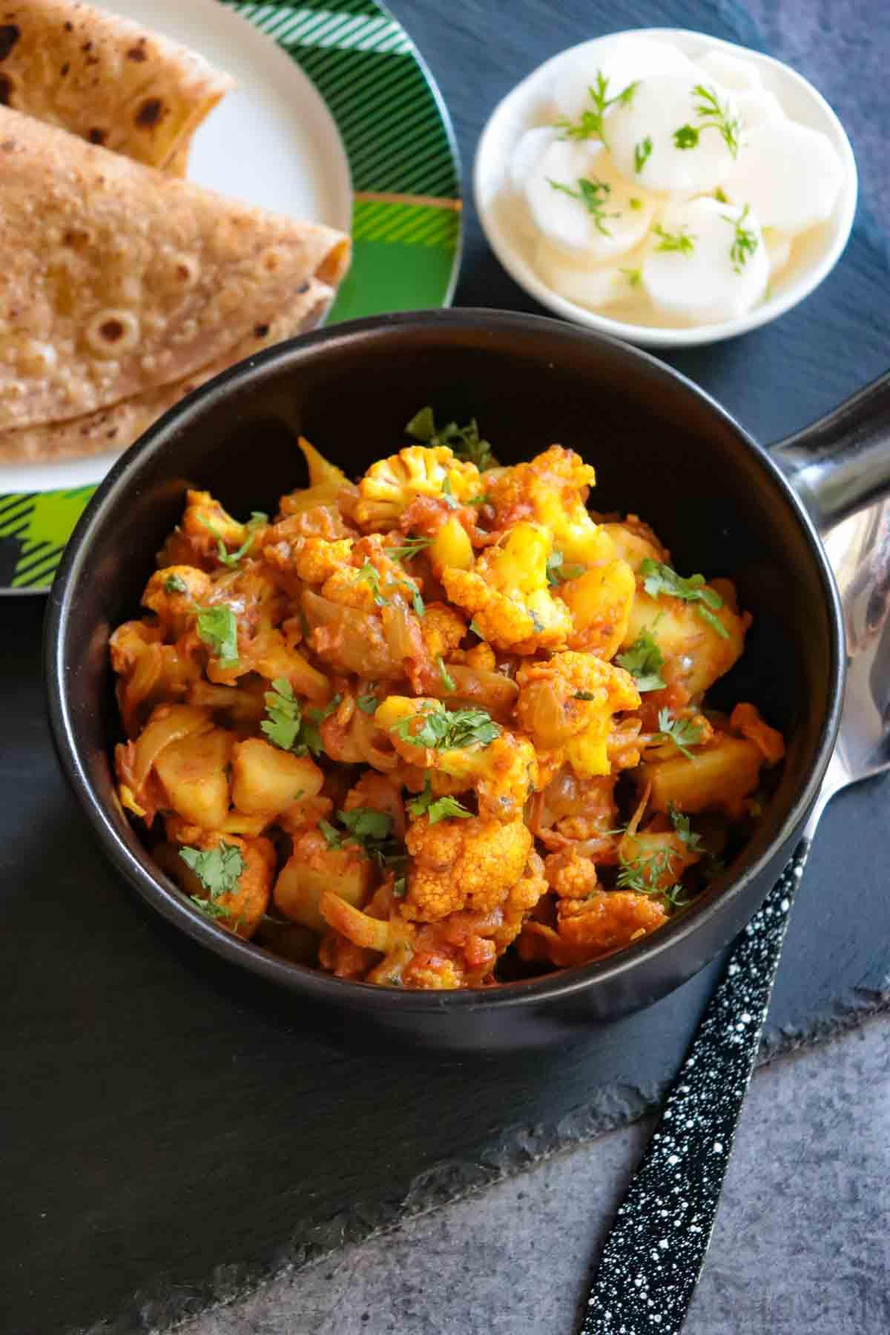aloo gobhi: (105, 402, 713, 1021)
roti phulka: (0, 0, 342, 452)
